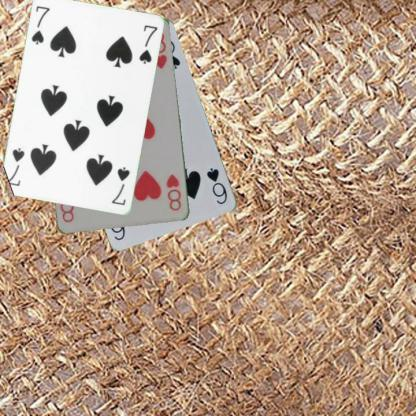6s: (204, 165, 229, 206)
7s: (109, 165, 131, 207), (29, 4, 51, 46)
8h: (164, 172, 182, 212)
